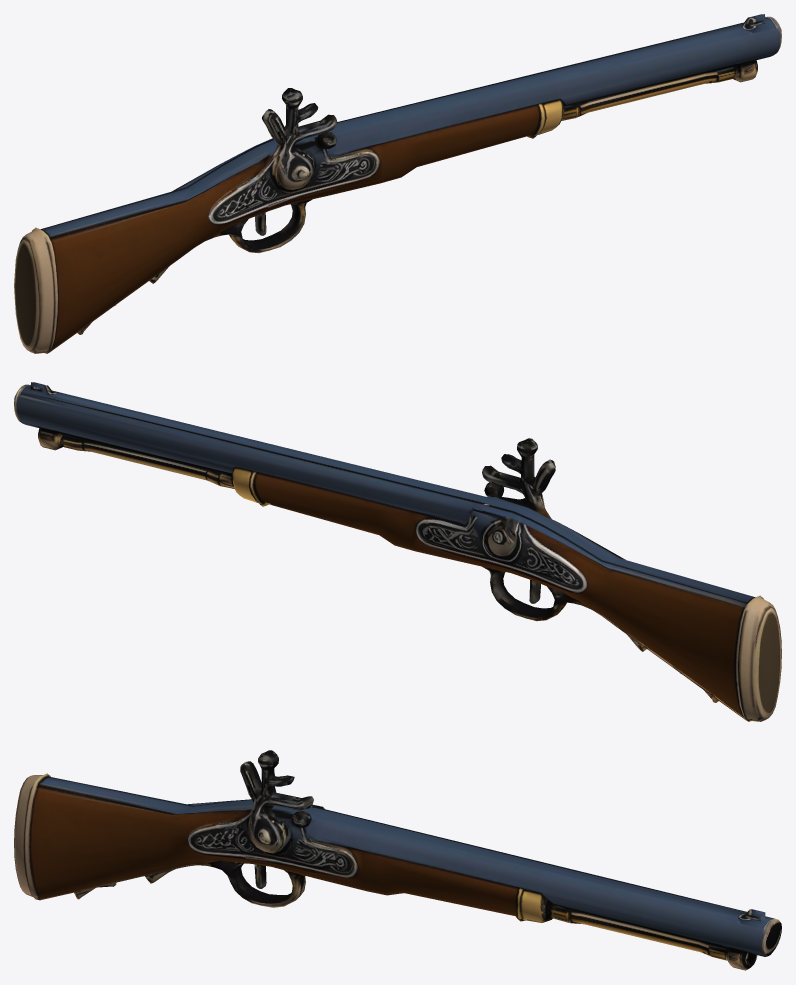
The model's file is Weapons__musket_rifle_11b81839_v3.cluster.glb.
3 renders of one model, top to bottom at view 1: azimuth 30°, elevation 25°; view 2: azimuth 150°, elevation 25°; view 3: azimuth 330°, elevation 25°, orthographic.
Parts seen in each view (by area): view 1: mesh_input; view 2: mesh_input; view 3: mesh_input.
Boxes of the visible parts, x1,y1,x2,y2 form: mesh_input: [14, 14, 781, 353]; mesh_input: [14, 382, 781, 721]; mesh_input: [14, 750, 781, 970].
Bounding box in the file's own units: 1.9 × 0.5118 × 0.1602.
1 material, 1 textured.
